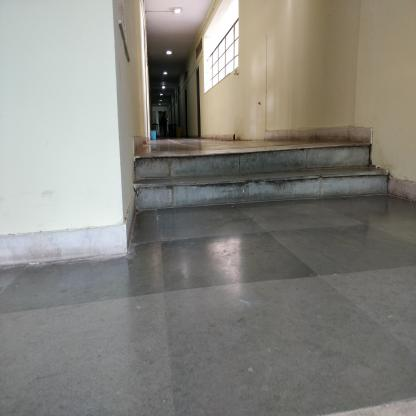stairs: (137, 145, 376, 210)
